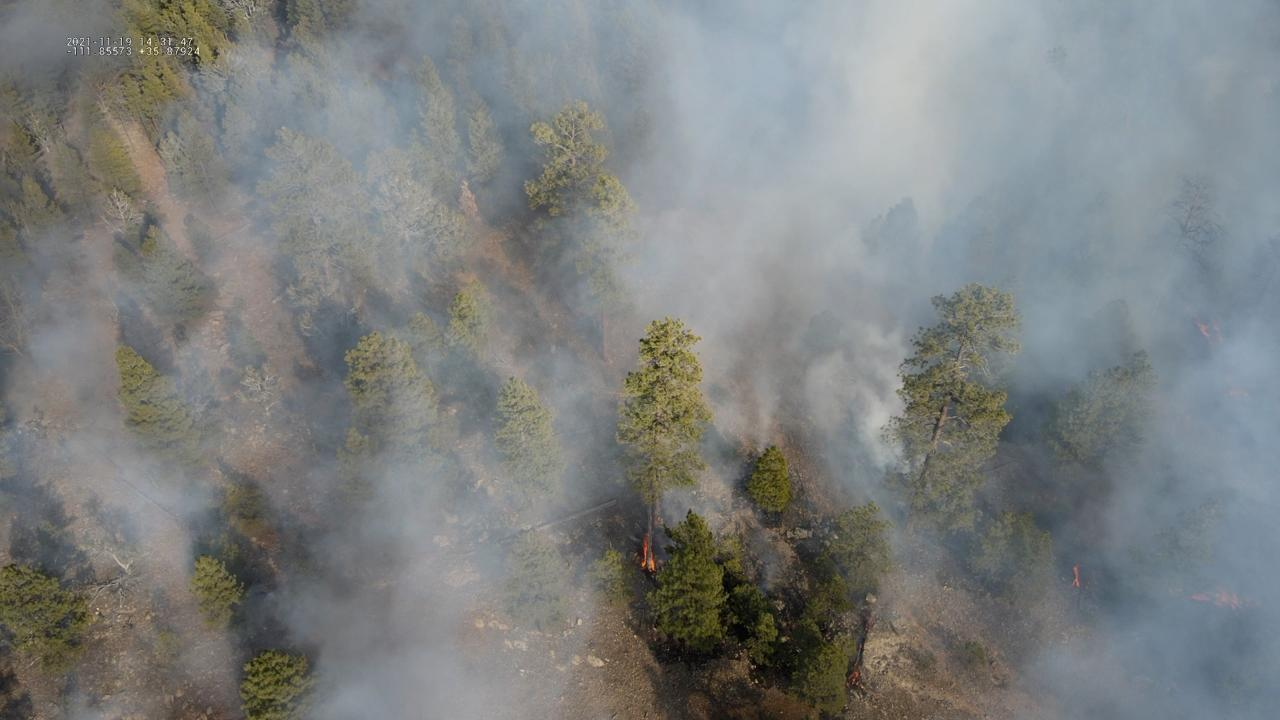fire: (1193, 585, 1251, 611), (637, 536, 659, 574), (1194, 321, 1225, 346), (1068, 564, 1084, 588), (845, 669, 861, 688)
smoke: (0, 0, 1280, 720)
